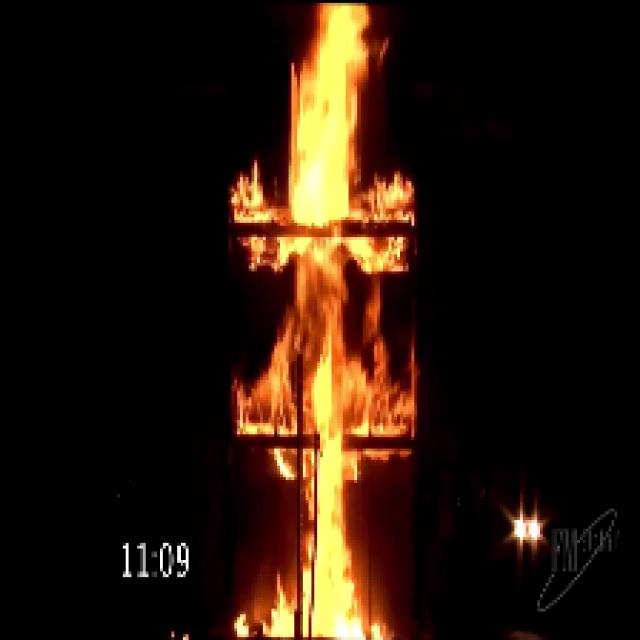fire: (268, 7, 370, 639)
